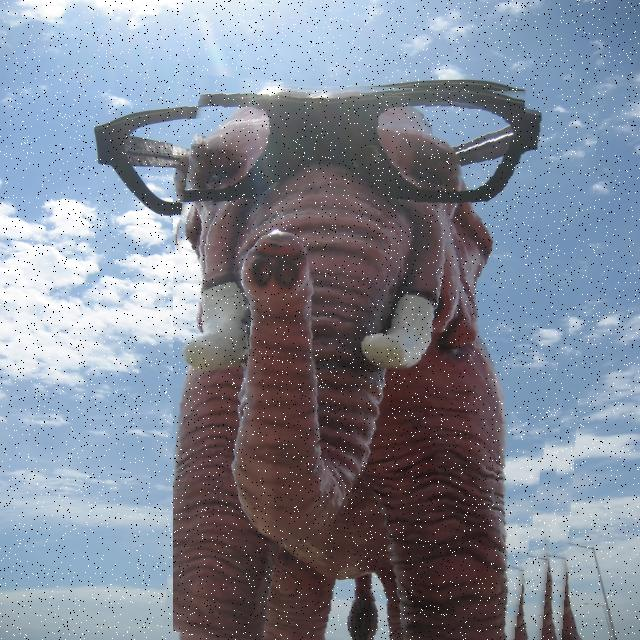elephant: (173, 81, 590, 640)
